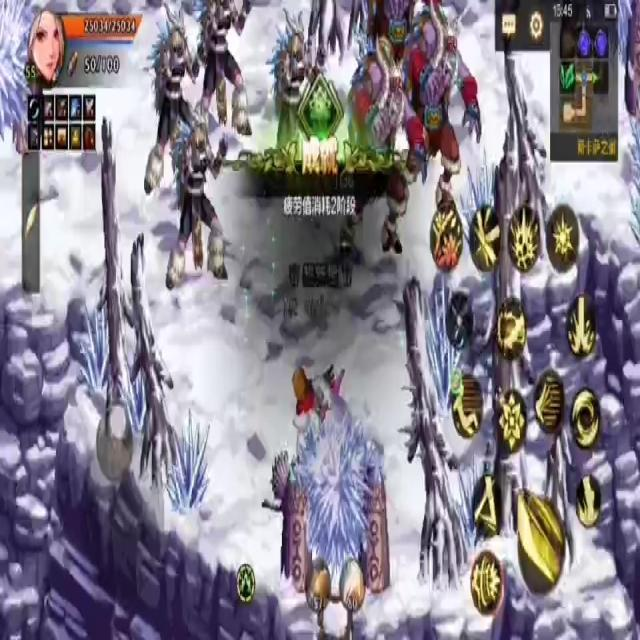player: (287, 356, 343, 451)
